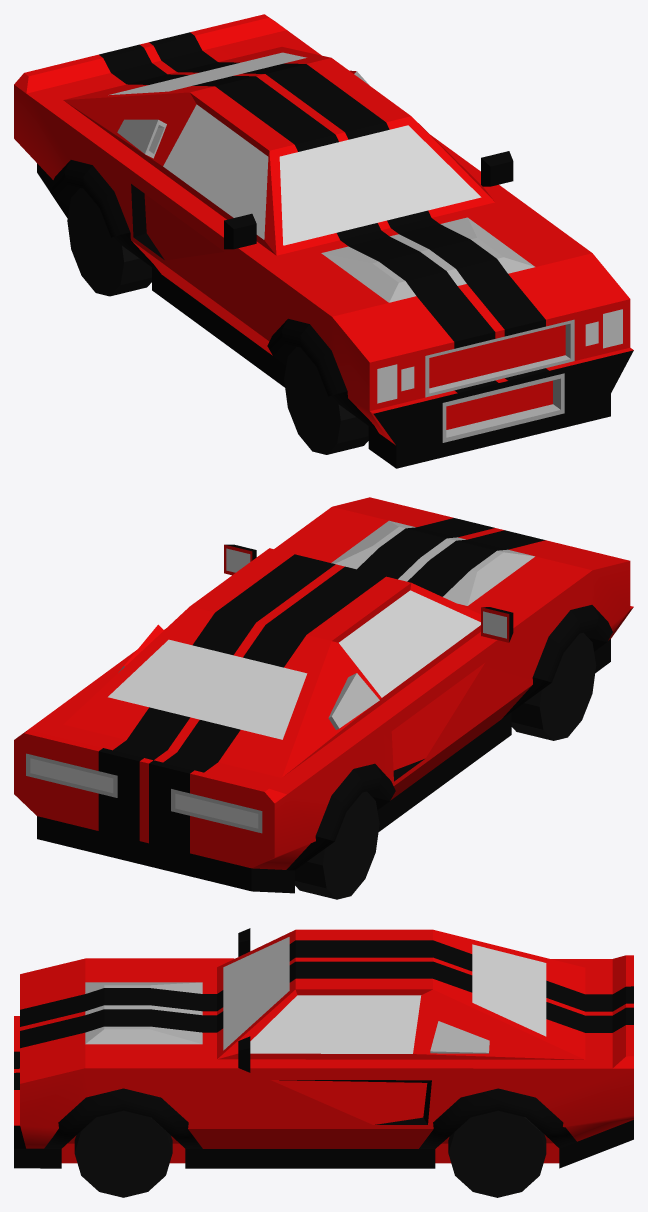
File: muscle_car.fbx
The picture shows the model from 3 angles, top to bottom: view 1: azimuth 30°, elevation 25°; view 2: azimuth 150°, elevation 25°; view 3: azimuth 270°, elevation 25°; orthographic projection. The views are drawn at different scales.
Visible parts, largest first — view 1: MuscleCar, Wheel_FR.003, Wheel_RR.003; view 2: MuscleCar, Wheel_RR.003, Wheel_FR.003; view 3: MuscleCar, Wheel_RL.003, Wheel_FL.003.
Boxes of the visible parts, x1=… form: MuscleCar: x1=14, y1=14, x2=633, y2=468; Wheel_FR.003: x1=284, y1=347, x2=368, y2=454; Wheel_RR.003: x1=67, y1=188, x2=151, y2=296; MuscleCar: x1=14, y1=497, x2=633, y2=893; Wheel_RR.003: x1=295, y1=791, x2=379, y2=899; Wheel_FR.003: x1=511, y1=632, x2=596, y2=740; MuscleCar: x1=14, y1=928, x2=633, y2=1168; Wheel_RL.003: x1=448, y1=1110, x2=546, y2=1197; Wheel_FL.003: x1=74, y1=1110, x2=172, y2=1197.
Bounding box in the file's own units: 357 × 256 × 780.
